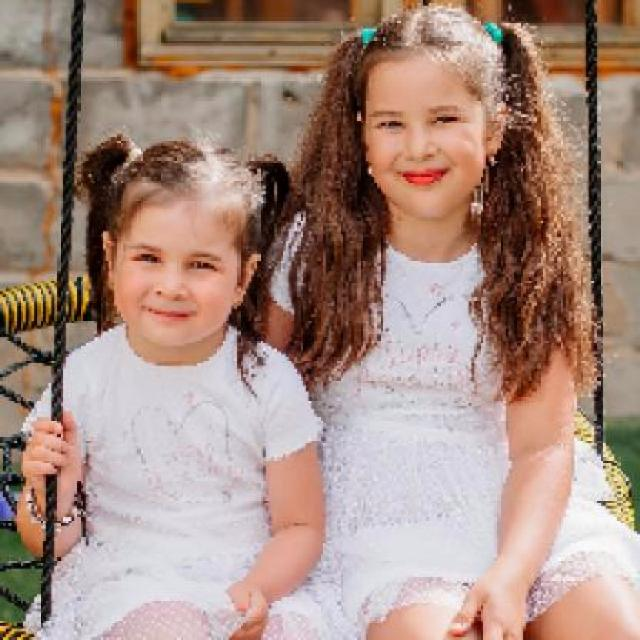child: (15, 132, 332, 638)
